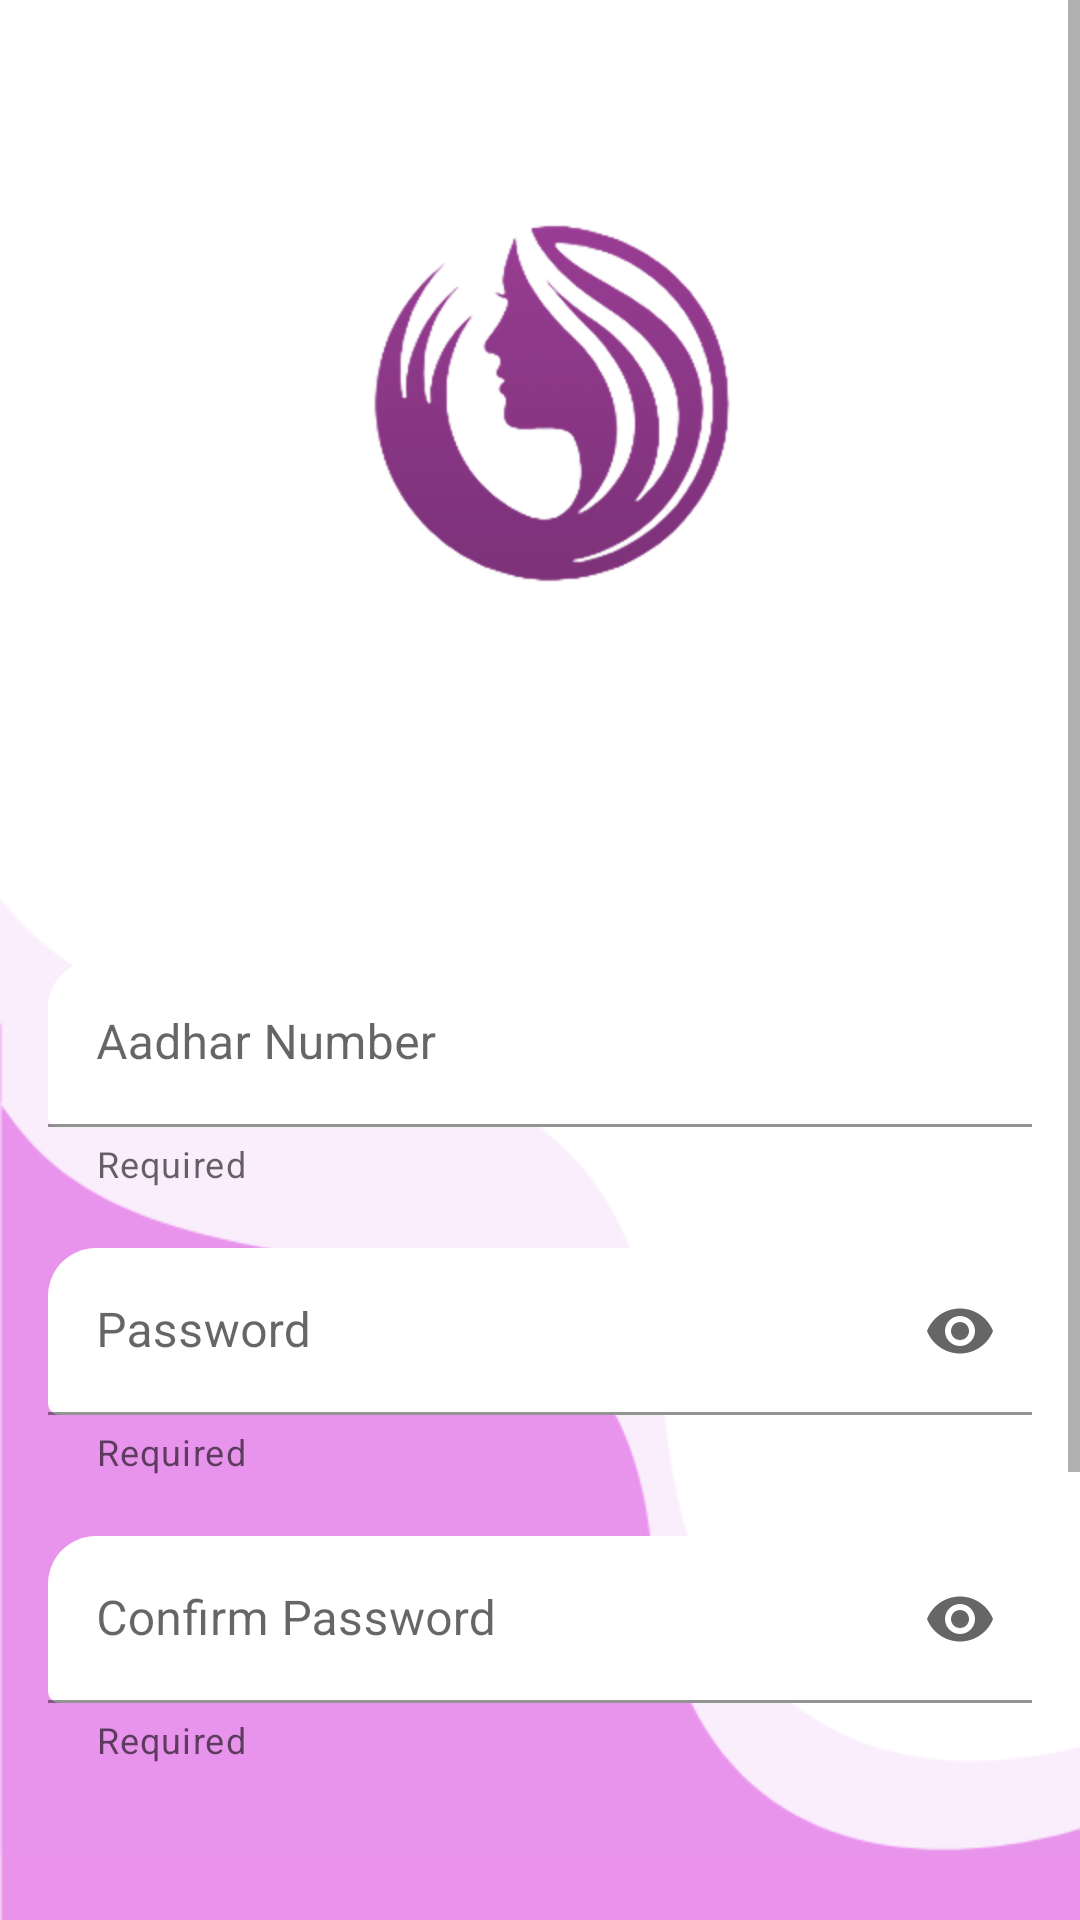

Icon click points for this 1080w x 1920h phone screenshot, format (x=x, y=y):
femme: (x=552, y=403)
